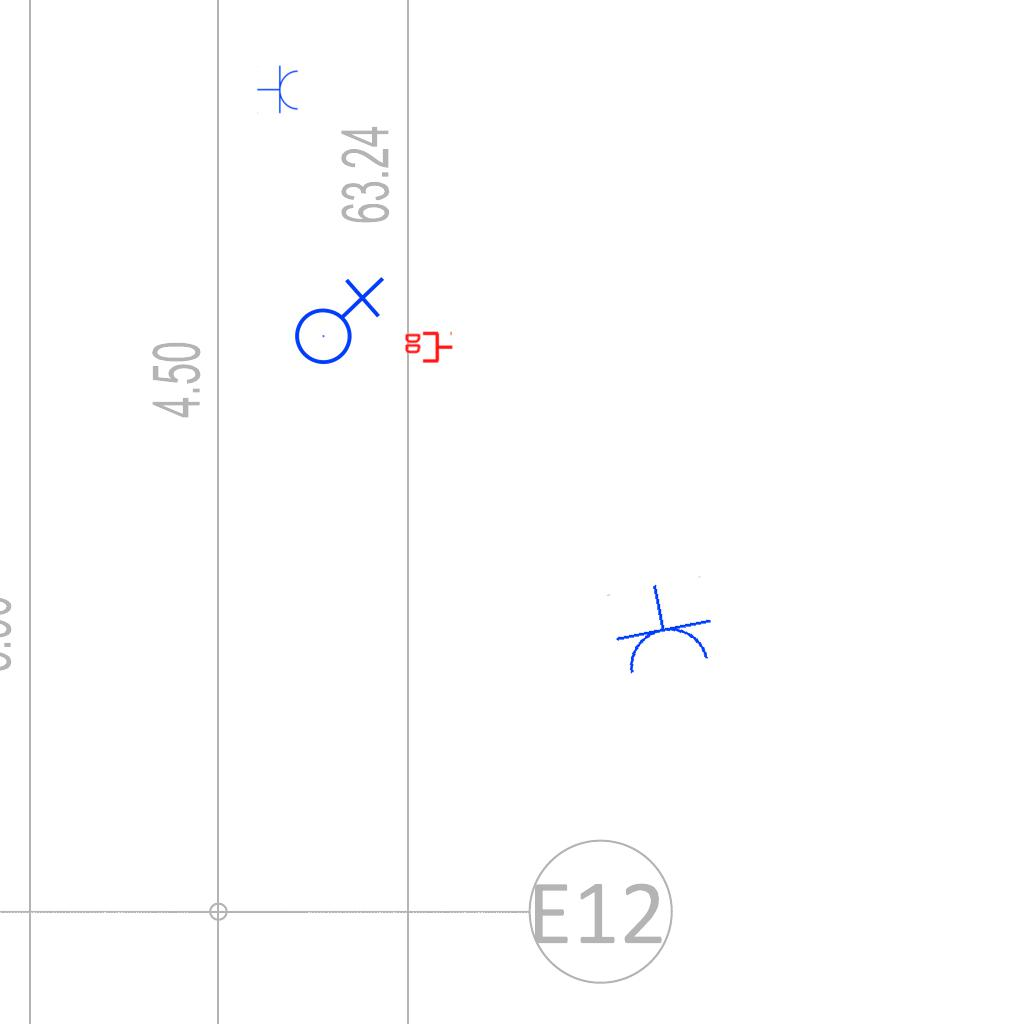Datenanschluss_zweifach: (403, 331, 454, 365)
Elektroanschluss_allgemein_230V_Geraeteanschlussdose_230V: (286, 272, 385, 366)
Schukosteckdose_einfach: (604, 575, 720, 680), (257, 65, 300, 115)
